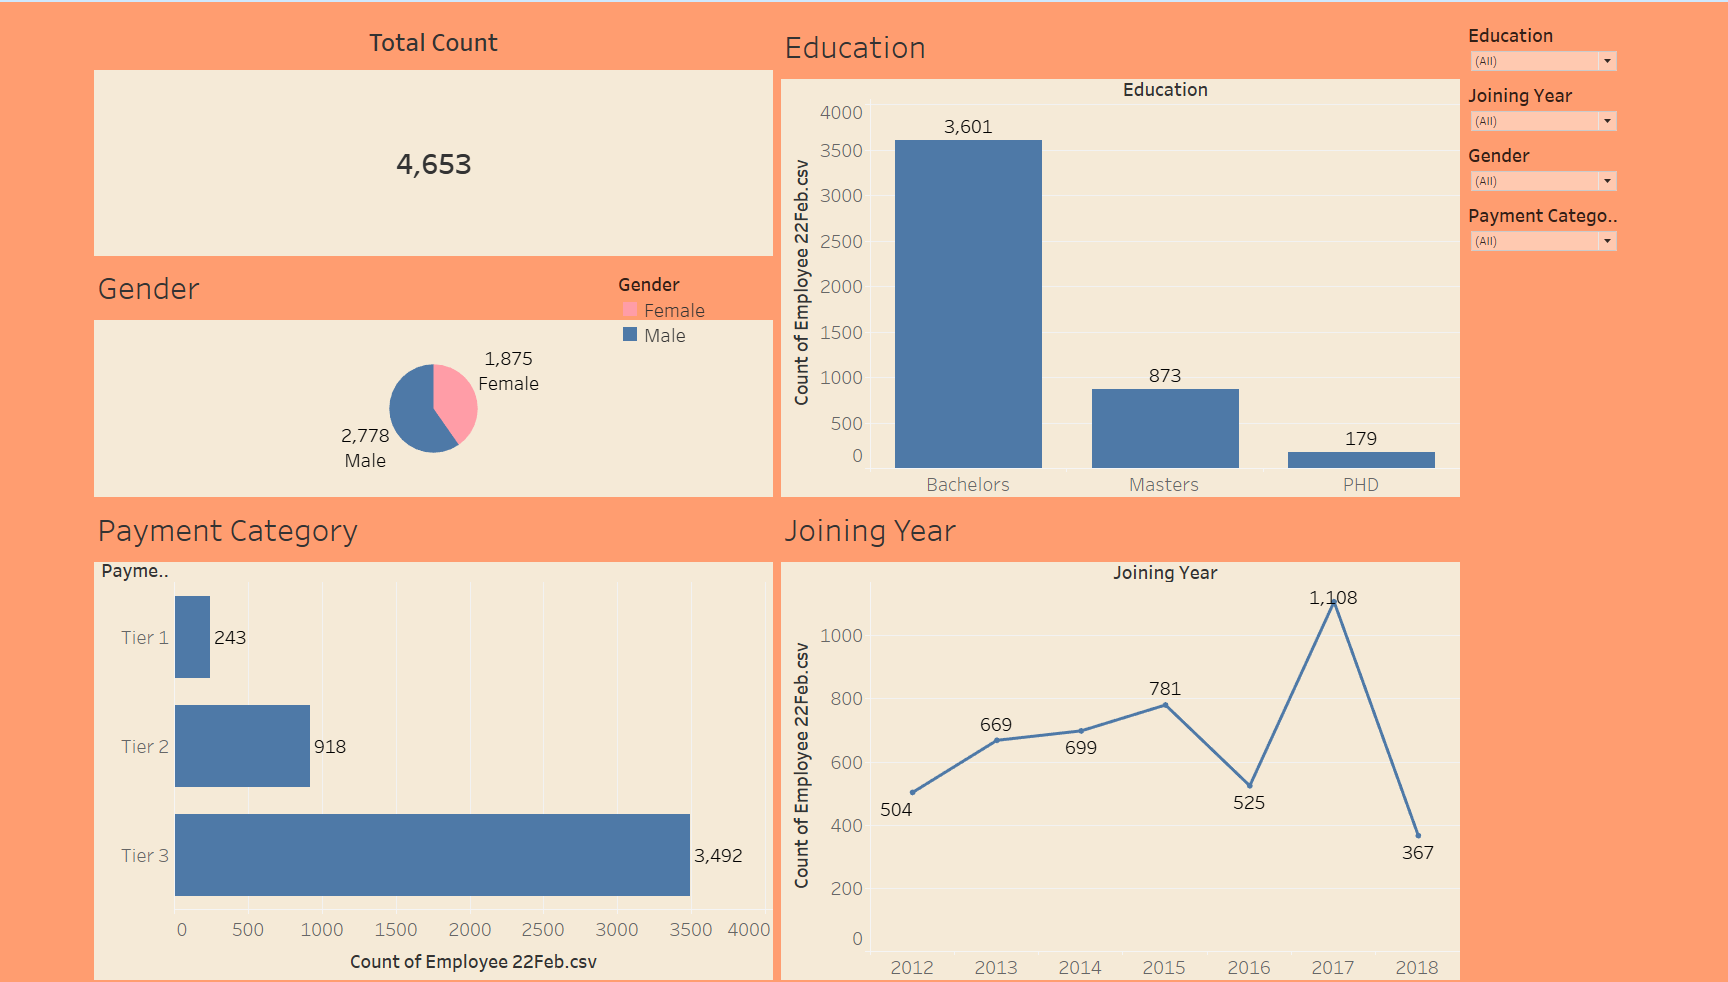

Layout of this report page (visuals, bound fields, positions):
{"tool":"tableau","page":{"name":"Dashboard 1","canvas":[1000,1000],"units":"permille","ordinal":0},"visuals":[{"type":"text","box":[5.2,7.5,989.7,73.6]},{"type":"worksheet","title":"Total Count","mark":"Automatic","box":[5.2,81.1,443.2,227.8]},{"type":"worksheet","title":"Education","mark":"Automatic","rows":["Employee 22Feb.csv_30C32DA59A8D4152B69402FF2C94D4BD"],"cols":["Education"],"box":[448.3,81.1,443.3,455.7]},{"type":"filter","title":"Education","param":"[federated.12ntcu71mh2167169im3v1ofgw4s].[none:Education:nk]","box":[891.6,81.1,103.2,66]},{"type":"filter","title":"Joining Year","param":"[federated.12ntcu71mh2167169im3v1ofgw4s].[none:JoiningYear:nk]","box":[891.6,147.2,103.2,66]},{"type":"filter","title":"Gender","param":"[federated.12ntcu71mh2167169im3v1ofgw4s].[none:Gender:nk]","box":[891.6,213.2,103.2,66]},{"type":"filter","title":"Payment Category","param":"[federated.12ntcu71mh2167169im3v1ofgw4s].[none:Calculation_70931744067104768:nk]","box":[891.6,279.2,103.2,66]},{"type":"worksheet","title":"Gender","mark":"Pie","box":[5.2,309,443.2,227.8]},{"type":"legend","title":"Gender","param":"[federated.12ntcu71mh2167169im3v1ofgw4s].[none:Gender:nk]","box":[345.8,319.8,90.3,71.7]},{"type":"worksheet","title":"Payment Category","mark":"Automatic","rows":["Calculation_70931744067104768"],"cols":["Employee 22Feb.csv_30C32DA59A8D4152B69402FF2C94D4BD"],"box":[5.2,536.8,443.2,455.7]},{"type":"worksheet","title":"Joining Year","mark":"Line","rows":["Employee 22Feb.csv_30C32DA59A8D4152B69402FF2C94D4BD"],"cols":["JoiningYear"],"box":[448.3,536.8,443.3,455.7]}]}

Visuals, with their boxes on the dashboard's canvas, which has no fixed pixel size, in thousandths of its width and height (x1, y1, x2, y2). These are canvas units, not pixel positions in the 1728x982 screenshot, which may show the page scaled, cropped or inside an application window:
text: [5, 8, 995, 81]
"Total Count" worksheet: [5, 81, 448, 309]
"Education" worksheet: [448, 81, 892, 537]
"Education" filter: [892, 81, 995, 147]
"Joining Year" filter: [892, 147, 995, 213]
"Gender" filter: [892, 213, 995, 279]
"Payment Category" filter: [892, 279, 995, 345]
"Gender" worksheet (Pie marks): [5, 309, 448, 537]
"Gender" legend: [346, 320, 436, 392]
"Payment Category" worksheet: [5, 537, 448, 992]
"Joining Year" worksheet (Line marks): [448, 537, 892, 992]
